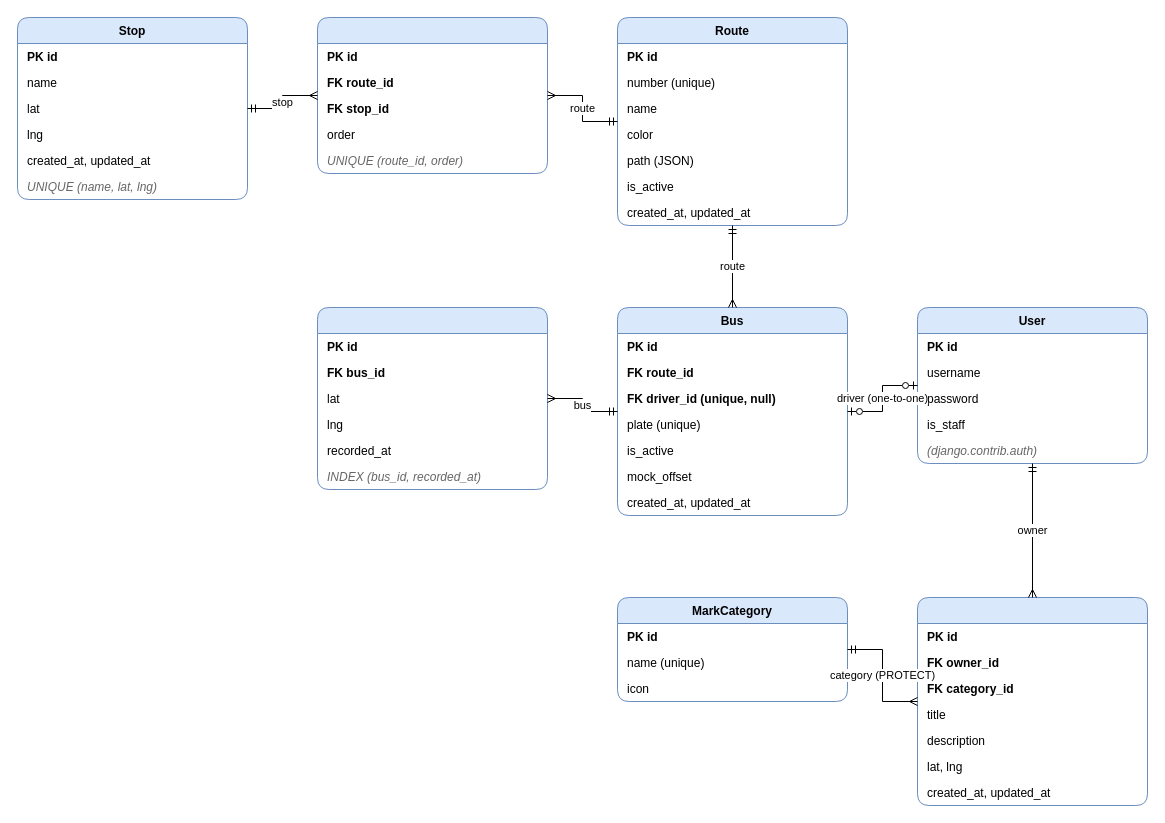
Some shapes in this 1165 by 823 pixel diagram are drawn without their labels. The box of each missing label's shape, as (x1, y1, x2, y2) in pixels:
BusPosition: (316, 306, 548, 490)
Mark: (916, 596, 1148, 806)
RouteStop: (316, 16, 548, 174)
